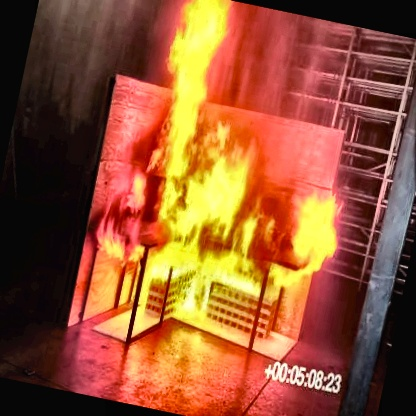fire: (88, 0, 379, 313)
